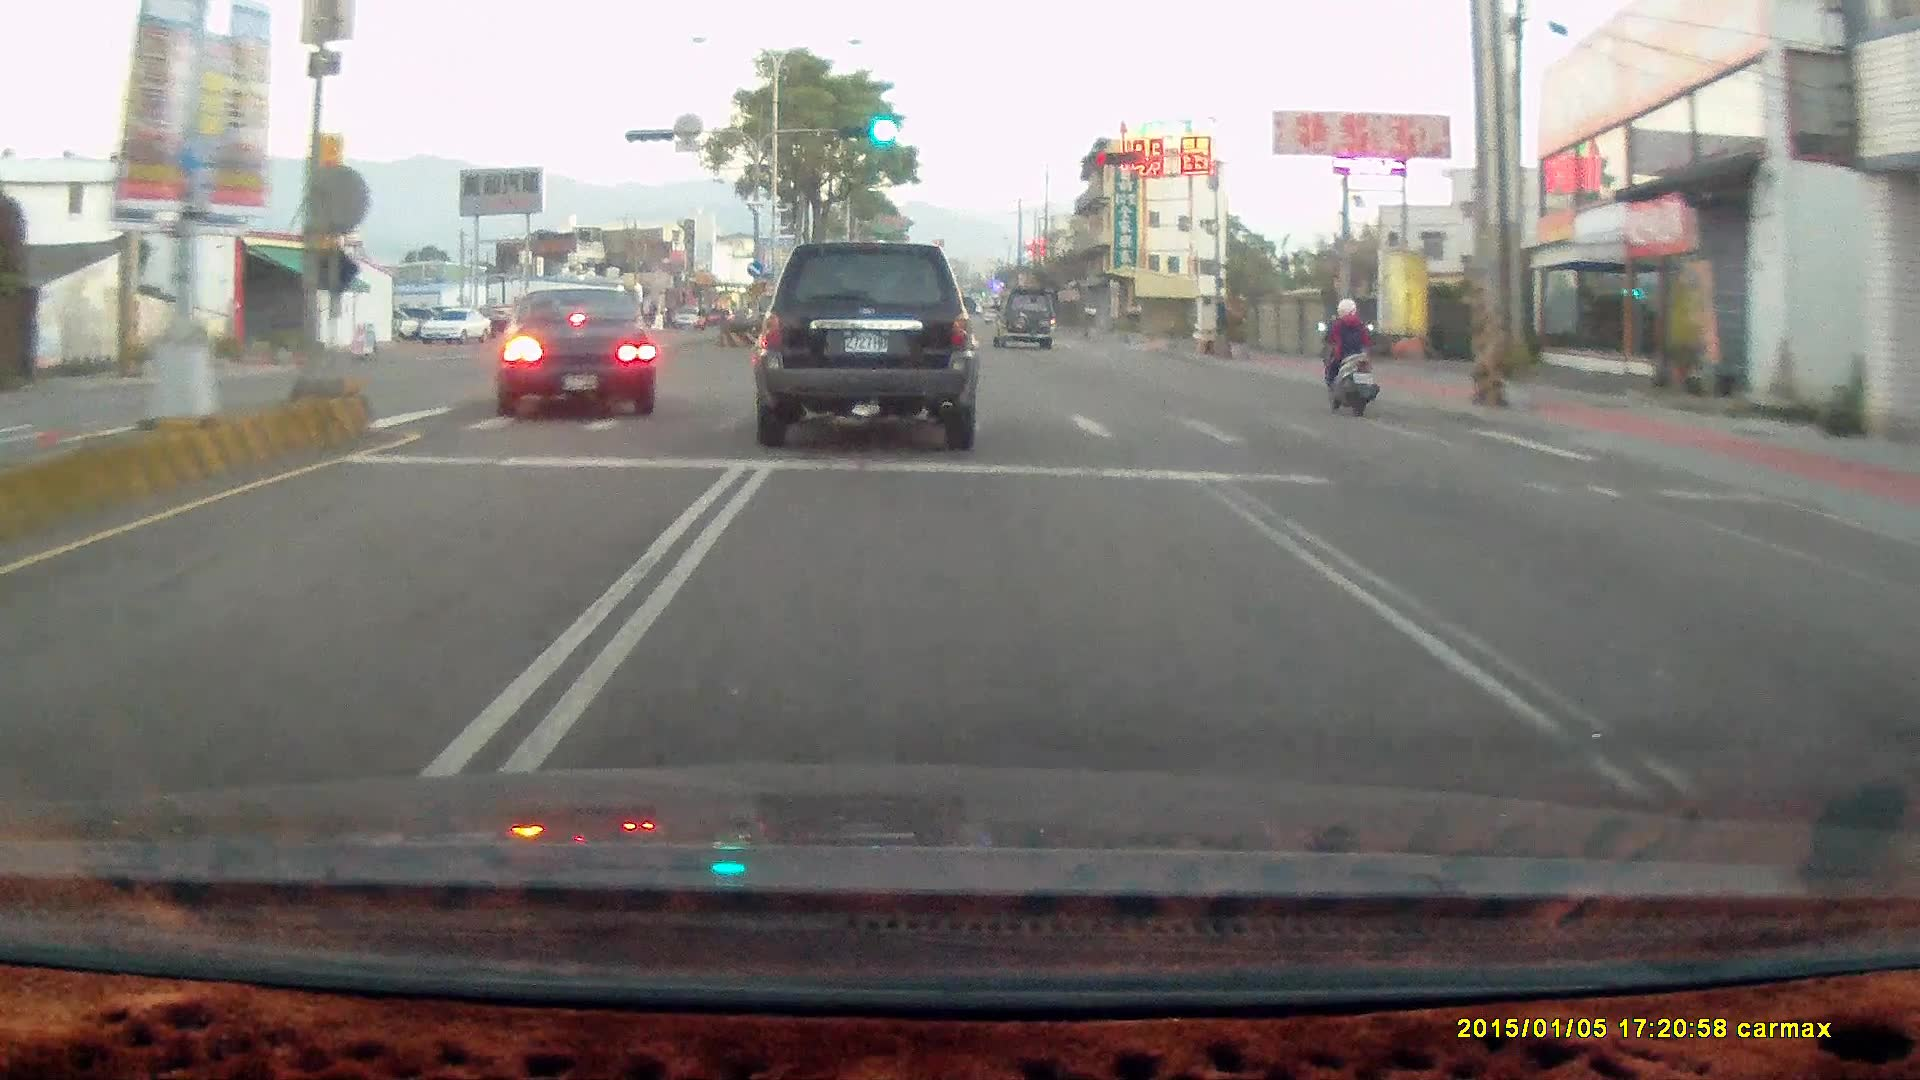rider: (1309, 287, 1389, 424), (1314, 295, 1378, 416)
vehicle: (757, 239, 982, 450), (752, 239, 977, 449), (490, 285, 658, 420), (488, 288, 656, 418), (992, 287, 1058, 353), (989, 280, 1054, 343), (418, 307, 490, 343)
